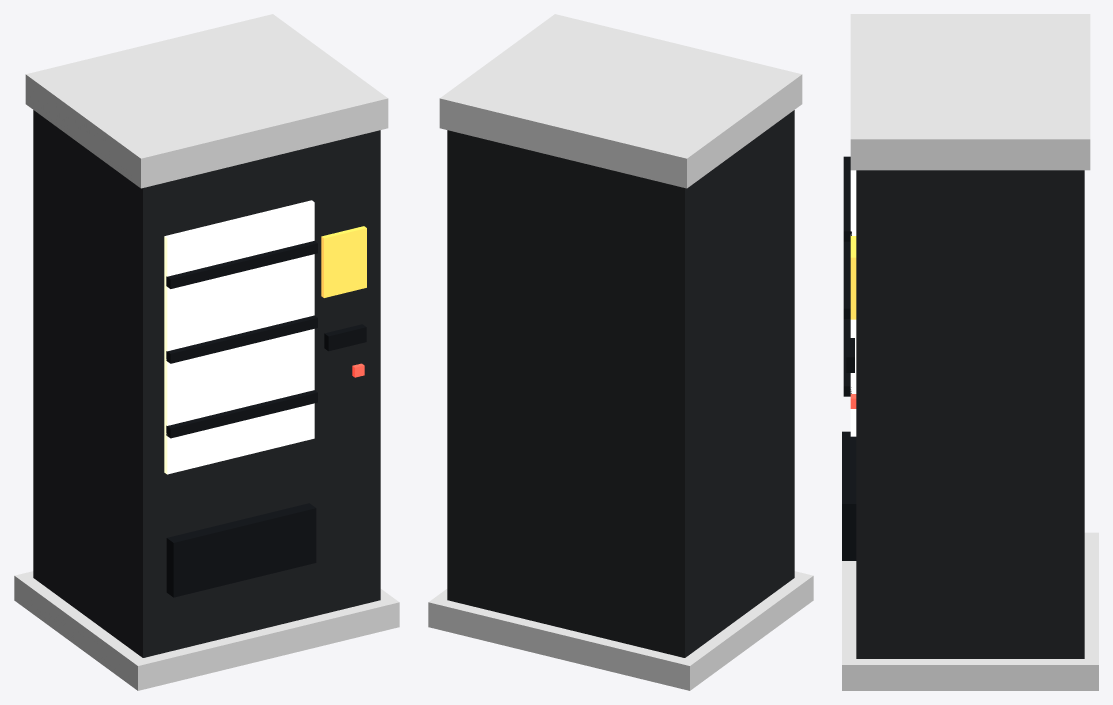
The model's file is prop_vending.gltf.
3 views of the same model, side by side, from view 1: azimuth 30°, elevation 25°; view 2: azimuth 150°, elevation 25°; view 3: azimuth 270°, elevation 25° (orthographic). The views are drawn at different scales.
Parts seen in each view (by area): view 1: graphite, olive, interior, steel, dark, detail_dark, glow_amber; view 2: graphite, olive, steel; view 3: graphite, olive, steel, dark, detail_dark, interior, glow_amber.
Part boxes in pixels (x1,y1,x2,y2): graphite: (33, 110, 380, 657); olive: (25, 14, 388, 188); interior: (164, 200, 314, 474); steel: (14, 571, 399, 690); dark: (166, 324, 366, 597); detail_dark: (166, 241, 317, 438); glow_amber: (321, 226, 366, 297); graphite: (447, 110, 794, 657); olive: (439, 14, 802, 188); steel: (428, 571, 813, 690); graphite: (856, 170, 1084, 658); olive: (850, 14, 1090, 170); steel: (842, 532, 1098, 690); dark: (842, 338, 856, 560); detail_dark: (843, 156, 851, 396); interior: (850, 170, 856, 436); glow_amber: (850, 236, 856, 319).
Bounding box in the file's own units: 1.1 × 2.12 × 0.9.
